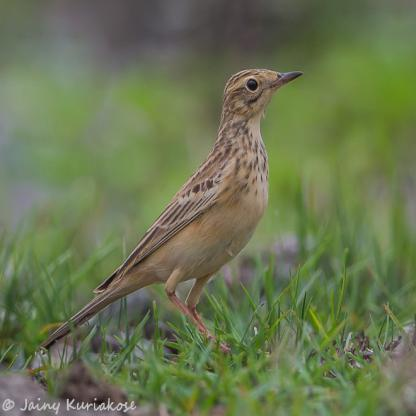Burung: (36, 65, 302, 354)
